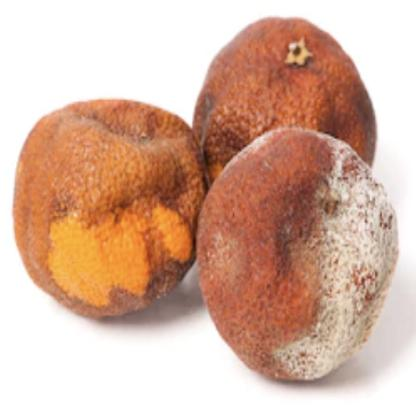rotten: (12, 16, 403, 390)
